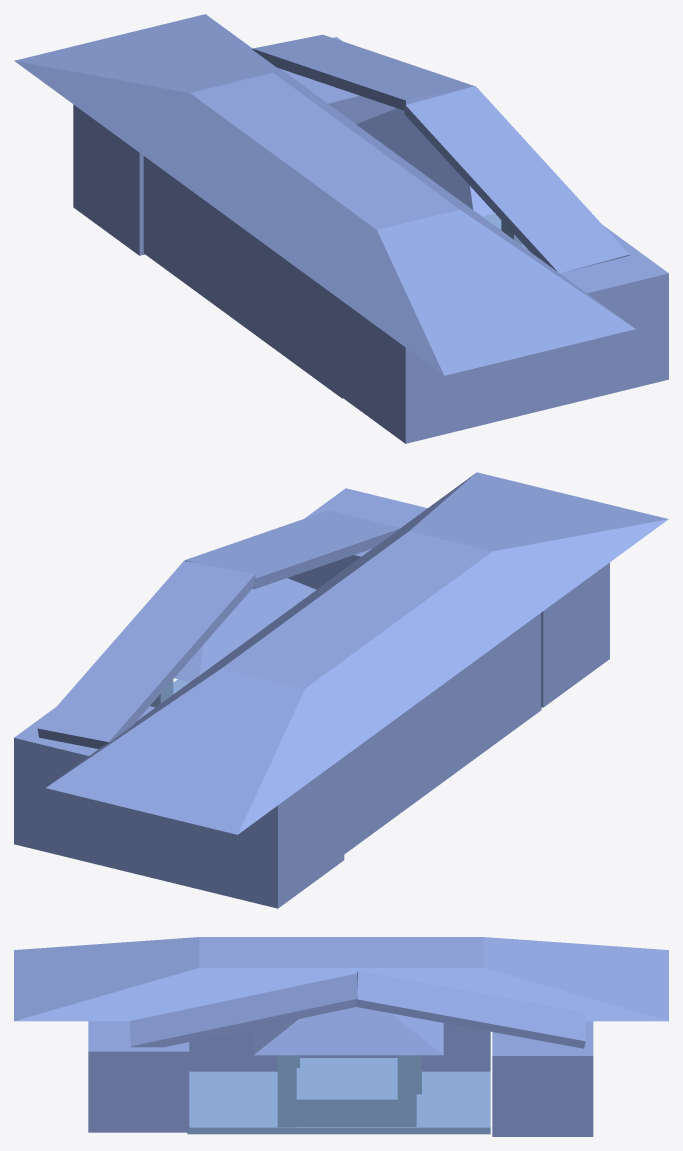
The model's file is BEEDNav.glb.
The picture shows the model from 3 angles, top to bottom: view 1: azimuth 30°, elevation 25°; view 2: azimuth 150°, elevation 25°; view 3: azimuth 270°, elevation 25°; orthographic projection. The views are drawn at different scales.
Parts seen in each view (by area): view 1: Cube.003, Cube.001, Cube, Cube.005, Cube.002, Cube.006, Cube.004; view 2: Cube.003, Cube.002, Cube, Cube.006, Cube.001, Cube.005, Cube.004; view 3: Cube.003, Cube.007, Cube.002, Cube.001, Cube.006, Cube.005, Cube.004, Cube.008, Cube, Cube.010, Cube.009.
Boxes of the visible parts, x1,y1,x2,y2 form: Cube.003: (14, 14, 635, 375); Cube.001: (339, 225, 668, 443); Cube: (143, 156, 342, 398); Cube.005: (404, 86, 629, 273); Cube.002: (73, 37, 396, 255); Cube.006: (252, 34, 474, 110); Cube.004: (356, 108, 494, 216); Cube.003: (46, 472, 668, 834); Cube.002: (14, 706, 344, 908); Cube: (344, 613, 541, 854); Cube.006: (37, 561, 255, 748); Cube.001: (288, 488, 609, 707); Cube.005: (184, 510, 400, 589); Cube.004: (174, 578, 316, 681); Cube.003: (14, 937, 668, 1021); Cube.007: (187, 1071, 490, 1134); Cube.002: (492, 1021, 593, 1136); Cube.001: (88, 1021, 189, 1132); Cube.006: (356, 970, 585, 1048); Cube.005: (130, 973, 357, 1047); Cube.004: (253, 1007, 443, 1055); Cube.008: (296, 1058, 397, 1126); Cube: (189, 1023, 490, 1071); Cube.010: (277, 1055, 296, 1127); Cube.009: (397, 1055, 416, 1126).
Bounding box in the file's own units: 12.8 × 7.85 × 34.64.
